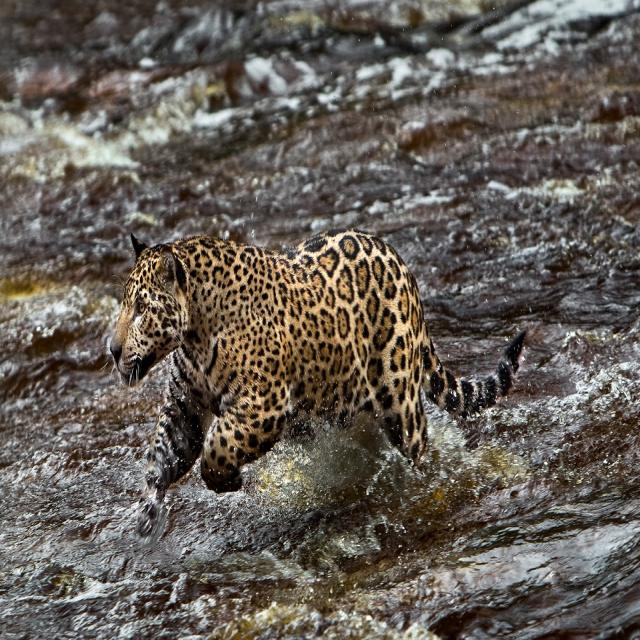Jaguar: (108, 226, 532, 503)
